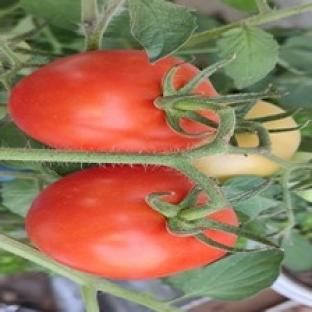Tomato: (26, 166, 225, 278), (9, 51, 203, 153), (194, 154, 279, 181)
